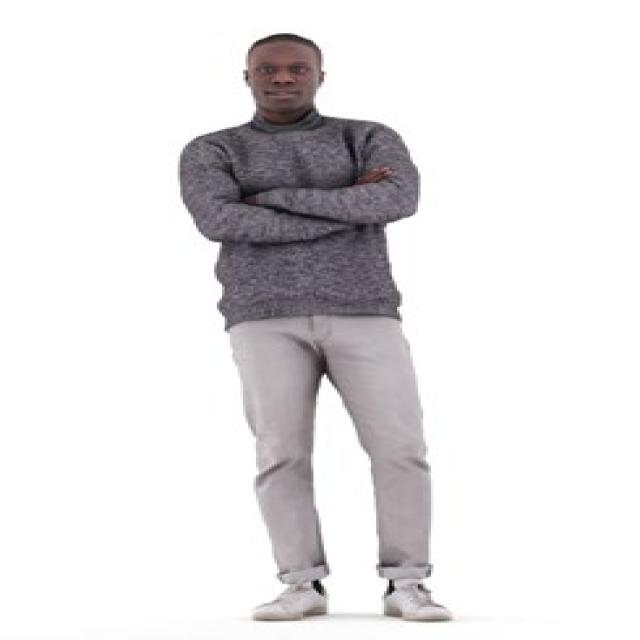standing: (174, 32, 456, 628)
